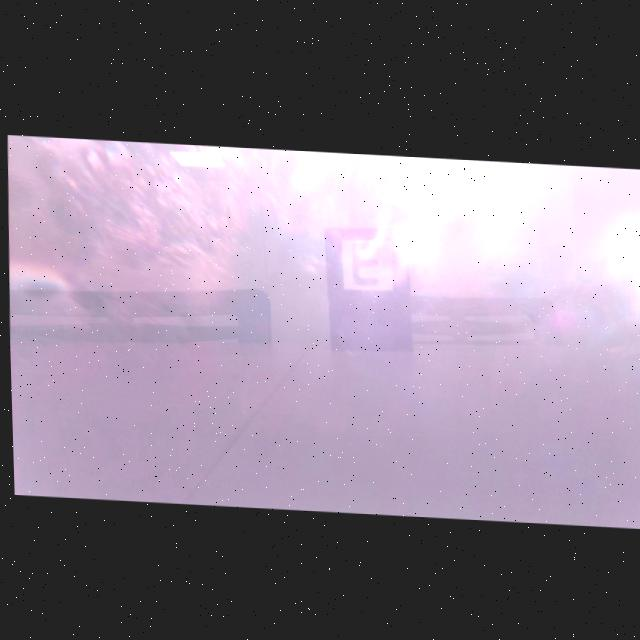E: (350, 240, 378, 282)
